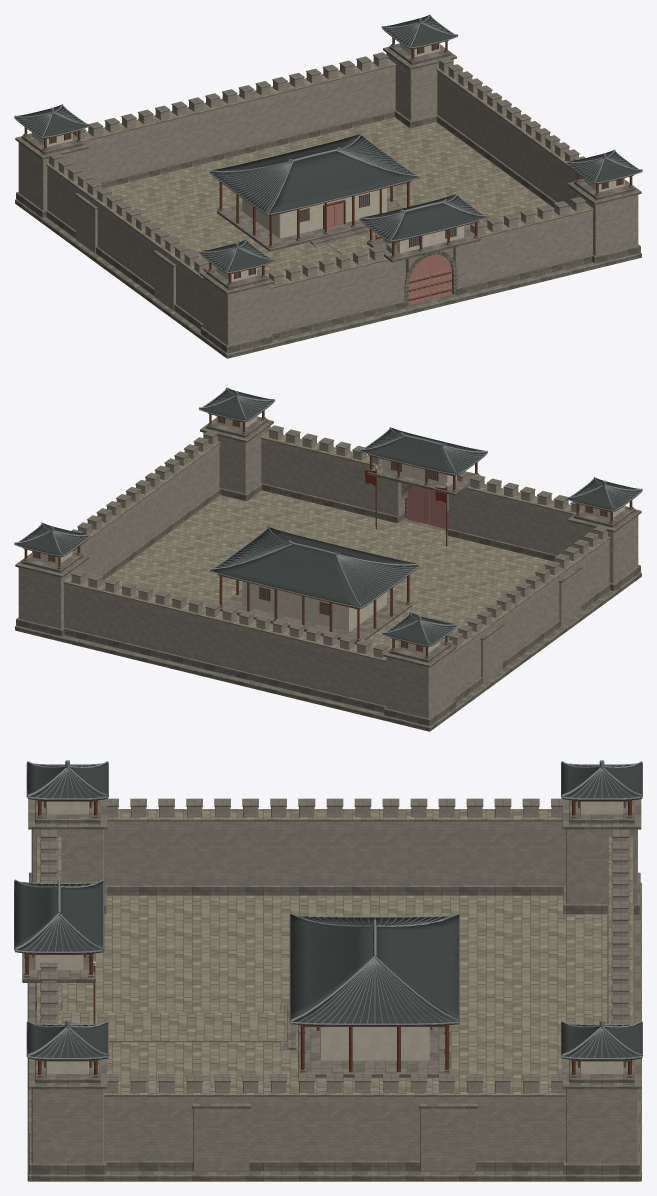
File: qingwa-city.glb
3 views of the same model, one above another, from view 1: azimuth 30°, elevation 25°; view 2: azimuth 150°, elevation 25°; view 3: azimuth 270°, elevation 25° (orthographic). The views are drawn at different scales.
Parts seen in each view (by area): view 1: 城墙与城门 · 城池 · 青砖墙, 城墙与城门 · 城池 · 石板铺地, 城墙与城门 · 城池 · 深色石基, 角楼 · 城池 · 青砖墙, 城内建筑 · 城池 · 青瓦, 角楼 · 城池 · 深色石基, 角楼 · 城池 · 青瓦, 城内建筑 · 城池 · 瓦脊, 角楼 · 城池 · 瓦脊, 城墙与城门 · 城池 · 青瓦, 城内建筑 · 城池 · 深色石基, 城内建筑 · 城池 · 灰浆墙 (+8 smaller); view 2: 城墙与城门 · 城池 · 青砖墙, 城墙与城门 · 城池 · 石板铺地, 城墙与城门 · 城池 · 深色石基, 角楼 · 城池 · 青砖墙, 城内建筑 · 城池 · 青瓦, 角楼 · 城池 · 深色石基, 角楼 · 城池 · 青瓦, 城内建筑 · 城池 · 瓦脊, 角楼 · 城池 · 瓦脊, 城内建筑 · 城池 · 灰浆墙, 城墙与城门 · 城池 · 青瓦, 城内建筑 · 城池 · 深色石基 (+7 smaller); view 3: 城墙与城门 · 城池 · 石板铺地, 城墙与城门 · 城池 · 青砖墙, 城墙与城门 · 城池 · 深色石基, 城内建筑 · 城池 · 青瓦, 角楼 · 城池 · 青砖墙, 角楼 · 城池 · 青瓦, 角楼 · 城池 · 深色石基, 城内建筑 · 城池 · 石板铺地, 城墙与城门 · 城池 · 青瓦, 角楼 · 城池 · 瓦脊, 城内建筑 · 城池 · 瓦脊, 城内建筑 · 城池 · 深色石基 (+6 smaller).
Boxes of the visible parts, box(x1,y1,x2,y2) form: 城墙与城门 · 城池 · 青砖墙: box(47, 56, 592, 332); 城墙与城门 · 城池 · 石板铺地: box(46, 58, 593, 288); 城墙与城门 · 城池 · 深色石基: box(15, 50, 641, 358); 角楼 · 城池 · 青砖墙: box(18, 53, 638, 345); 城内建筑 · 城池 · 青瓦: box(210, 134, 419, 215); 角楼 · 城池 · 深色石基: box(15, 43, 641, 353); 角楼 · 城池 · 青瓦: box(15, 15, 641, 273); 城内建筑 · 城池 · 瓦脊: box(209, 133, 419, 214); 角楼 · 城池 · 瓦脊: box(14, 14, 642, 273); 城墙与城门 · 城池 · 青瓦: box(360, 194, 487, 242); 城内建筑 · 城池 · 深色石基: box(217, 196, 403, 251); 城内建筑 · 城池 · 灰浆墙: box(242, 188, 386, 238); 城墙与城门 · 城池 · 青砖墙: box(64, 429, 609, 705); 城墙与城门 · 城池 · 石板铺地: box(63, 431, 610, 661); 城墙与城门 · 城池 · 深色石基: box(15, 423, 641, 731); 角楼 · 城池 · 青砖墙: box(18, 426, 638, 718); 城内建筑 · 城池 · 青瓦: box(209, 527, 419, 608); 角楼 · 城池 · 深色石基: box(15, 416, 641, 726); 角楼 · 城池 · 青瓦: box(15, 388, 641, 646); 城内建筑 · 城池 · 瓦脊: box(209, 526, 419, 608); 角楼 · 城池 · 瓦脊: box(14, 387, 642, 646); 城内建筑 · 城池 · 灰浆墙: box(242, 581, 386, 631); 城墙与城门 · 城池 · 青瓦: box(360, 428, 487, 475); 城内建筑 · 城池 · 深色石基: box(220, 589, 412, 643); 城墙与城门 · 城池 · 石板铺地: box(36, 809, 632, 1096); 城墙与城门 · 城池 · 青砖墙: box(41, 807, 628, 1171); 城墙与城门 · 城池 · 深色石基: box(22, 798, 641, 1181); 城内建筑 · 城池 · 青瓦: box(290, 914, 459, 1025); 角楼 · 城池 · 青砖墙: box(31, 829, 637, 1163); 角楼 · 城池 · 青瓦: box(27, 762, 642, 1060); 角楼 · 城池 · 深色石基: box(28, 799, 641, 1174); 城内建筑 · 城池 · 石板铺地: box(61, 1012, 286, 1041); 城墙与城门 · 城池 · 青瓦: box(14, 881, 103, 953); 角楼 · 城池 · 瓦脊: box(26, 760, 642, 1059); 城内建筑 · 城池 · 瓦脊: box(289, 913, 459, 1025); 城内建筑 · 城池 · 深色石基: box(280, 1003, 451, 1077).
Bounding box in the file's own units: 52.15 × 11.95 × 47.1.
11 materials, 7 textured.
